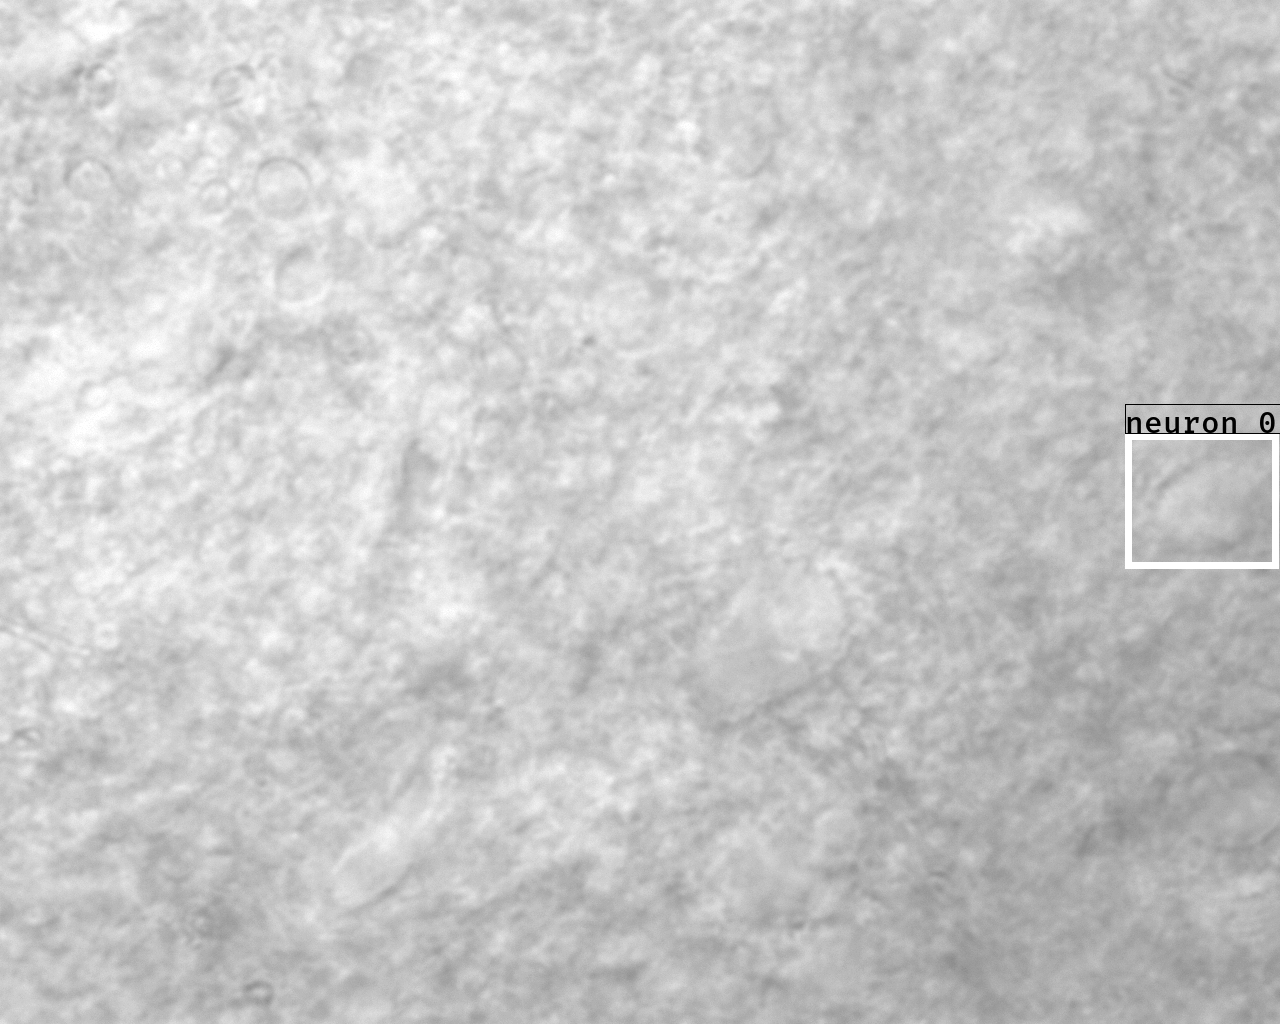neuron: (658, 545, 888, 731), (315, 819, 436, 922)
